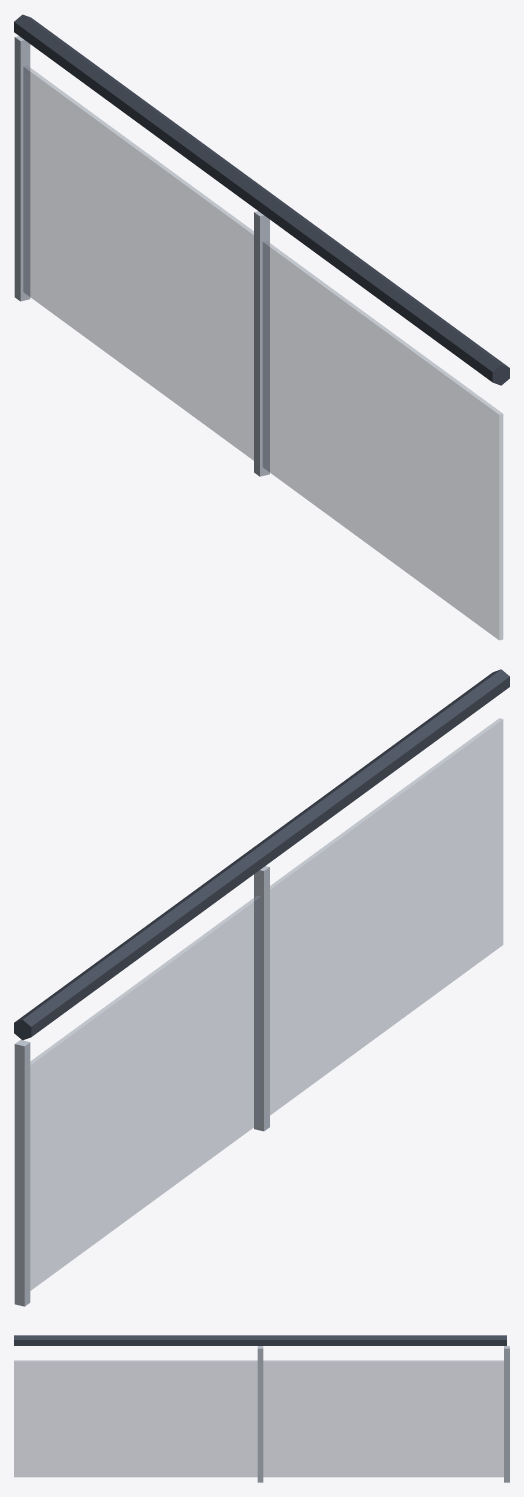
File: airport_fence.glb
3 renders of one model, top to bottom at view 1: azimuth 30°, elevation 25°; view 2: azimuth 150°, elevation 25°; view 3: azimuth 270°, elevation 25°, orthographic. The views are drawn at different scales.
Parts seen in each view (by area): view 1: fence; view 2: fence; view 3: fence.
Part boxes in pixels (left/top/right/bottom): fence: left=14, top=14, right=509, bottom=640; fence: left=14, top=669, right=509, bottom=1306; fence: left=14, top=1335, right=509, bottom=1482.
Bounding box in the file's own units: 0.2078 × 3.27 × 10.06.
